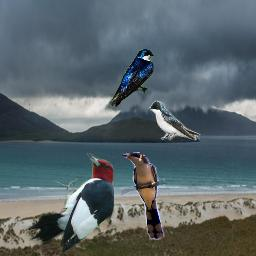Cuckoo: (121, 152, 165, 240)
Swallow: (109, 49, 155, 107), (148, 100, 201, 141)
Woodpecker: (27, 153, 114, 253)
